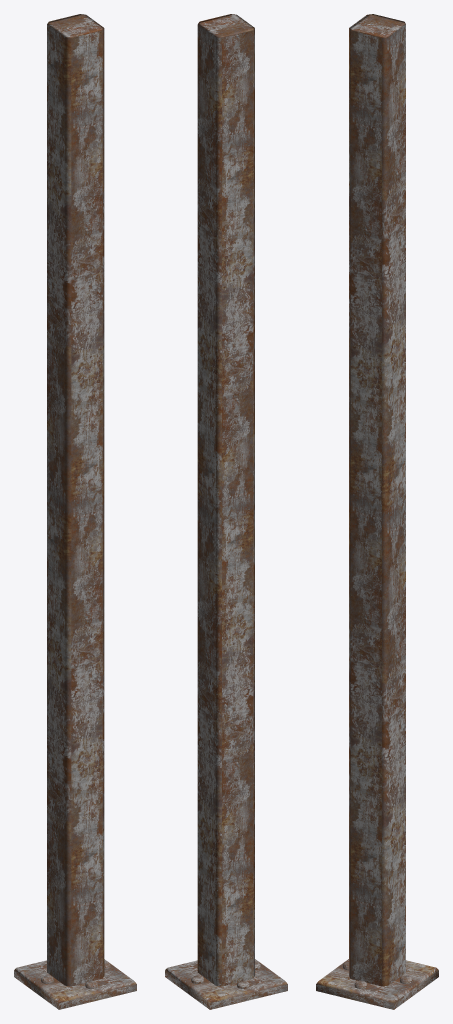
The model's file is SM_Structural_Support_03.FBX.
3 views of the same model, side by side, from view 1: azimuth 30°, elevation 25°; view 2: azimuth 210°, elevation 25°; view 3: azimuth 330°, elevation 25° (orthographic).
Visible parts, largest first — view 1: SM_Structural_Support_03_LOD0; view 2: SM_Structural_Support_03_LOD0; view 3: SM_Structural_Support_03_LOD0.
Boxes of the visible parts, x1=… form: SM_Structural_Support_03_LOD0: x1=14, y1=14, x2=136, y2=1009; SM_Structural_Support_03_LOD0: x1=165, y1=14, x2=287, y2=1009; SM_Structural_Support_03_LOD0: x1=316, y1=14, x2=438, y2=1009.
Size of what is drawn, in the model's own units: 29.13 by 29.14 by 343.
